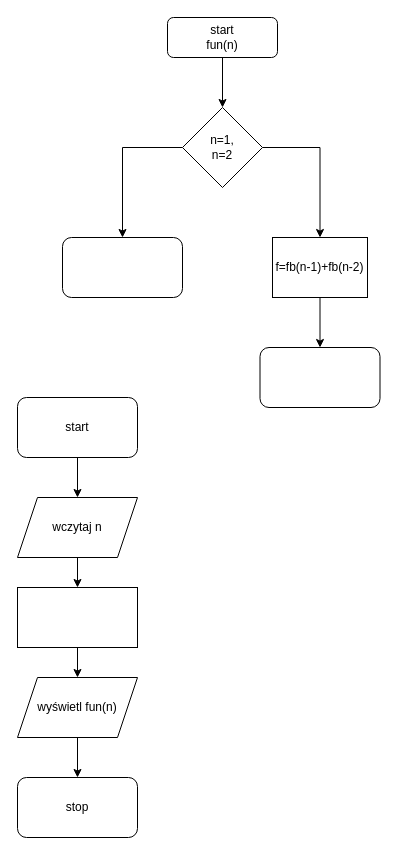
This 398x855 diagram has some shape labels left out. Here are the shapes that lost their labels. From the top down, the box of each, then its label:
(62, 236, 182, 298): Stop zwróć 1
(259, 346, 380, 408): stop zwróć f
(16, 586, 138, 648): wywołaj fun(n)
